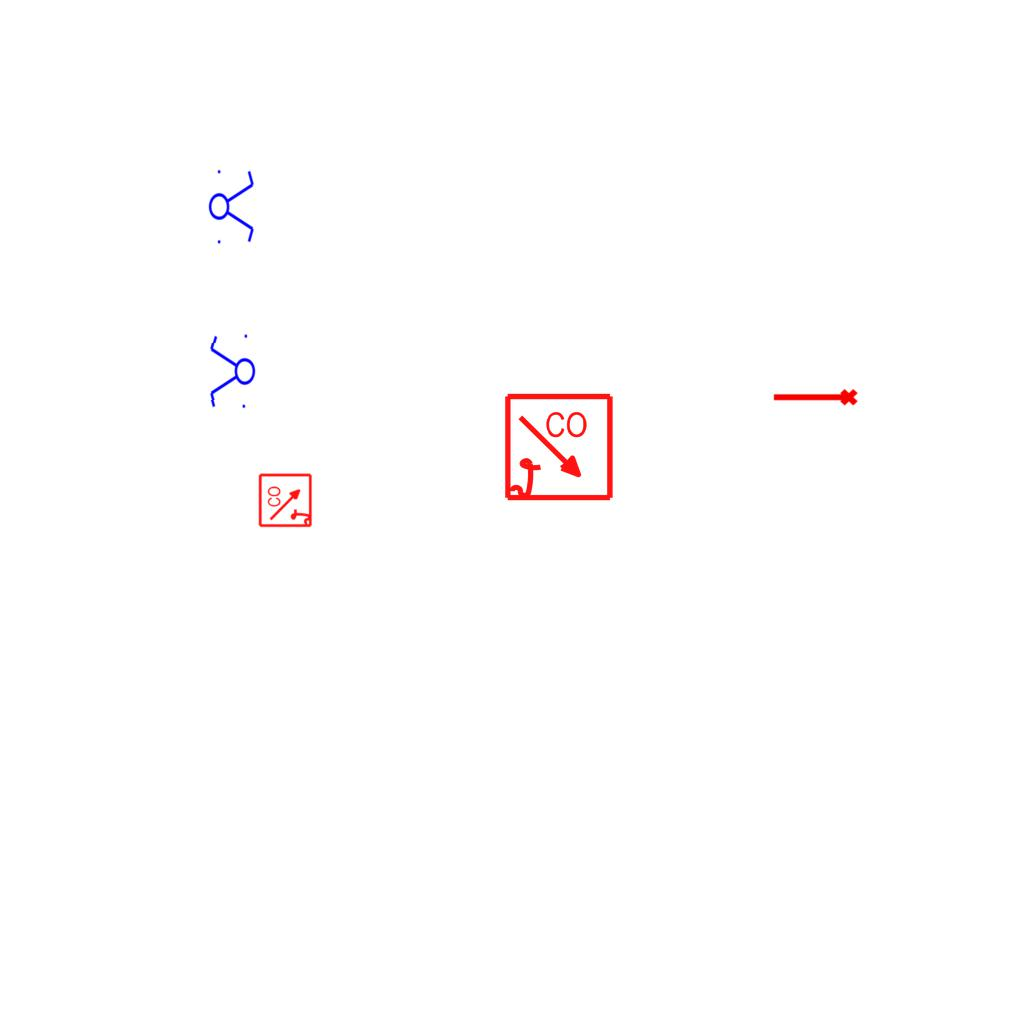ASR_Ansaugoeffnung: (771, 387, 859, 410)
ROA_Rauchmelder_optisch_mit_Signalgeber_(Sockelsirene): (503, 392, 616, 505), (258, 472, 314, 528)
Serienschalter: (207, 329, 257, 415), (208, 164, 256, 248)
